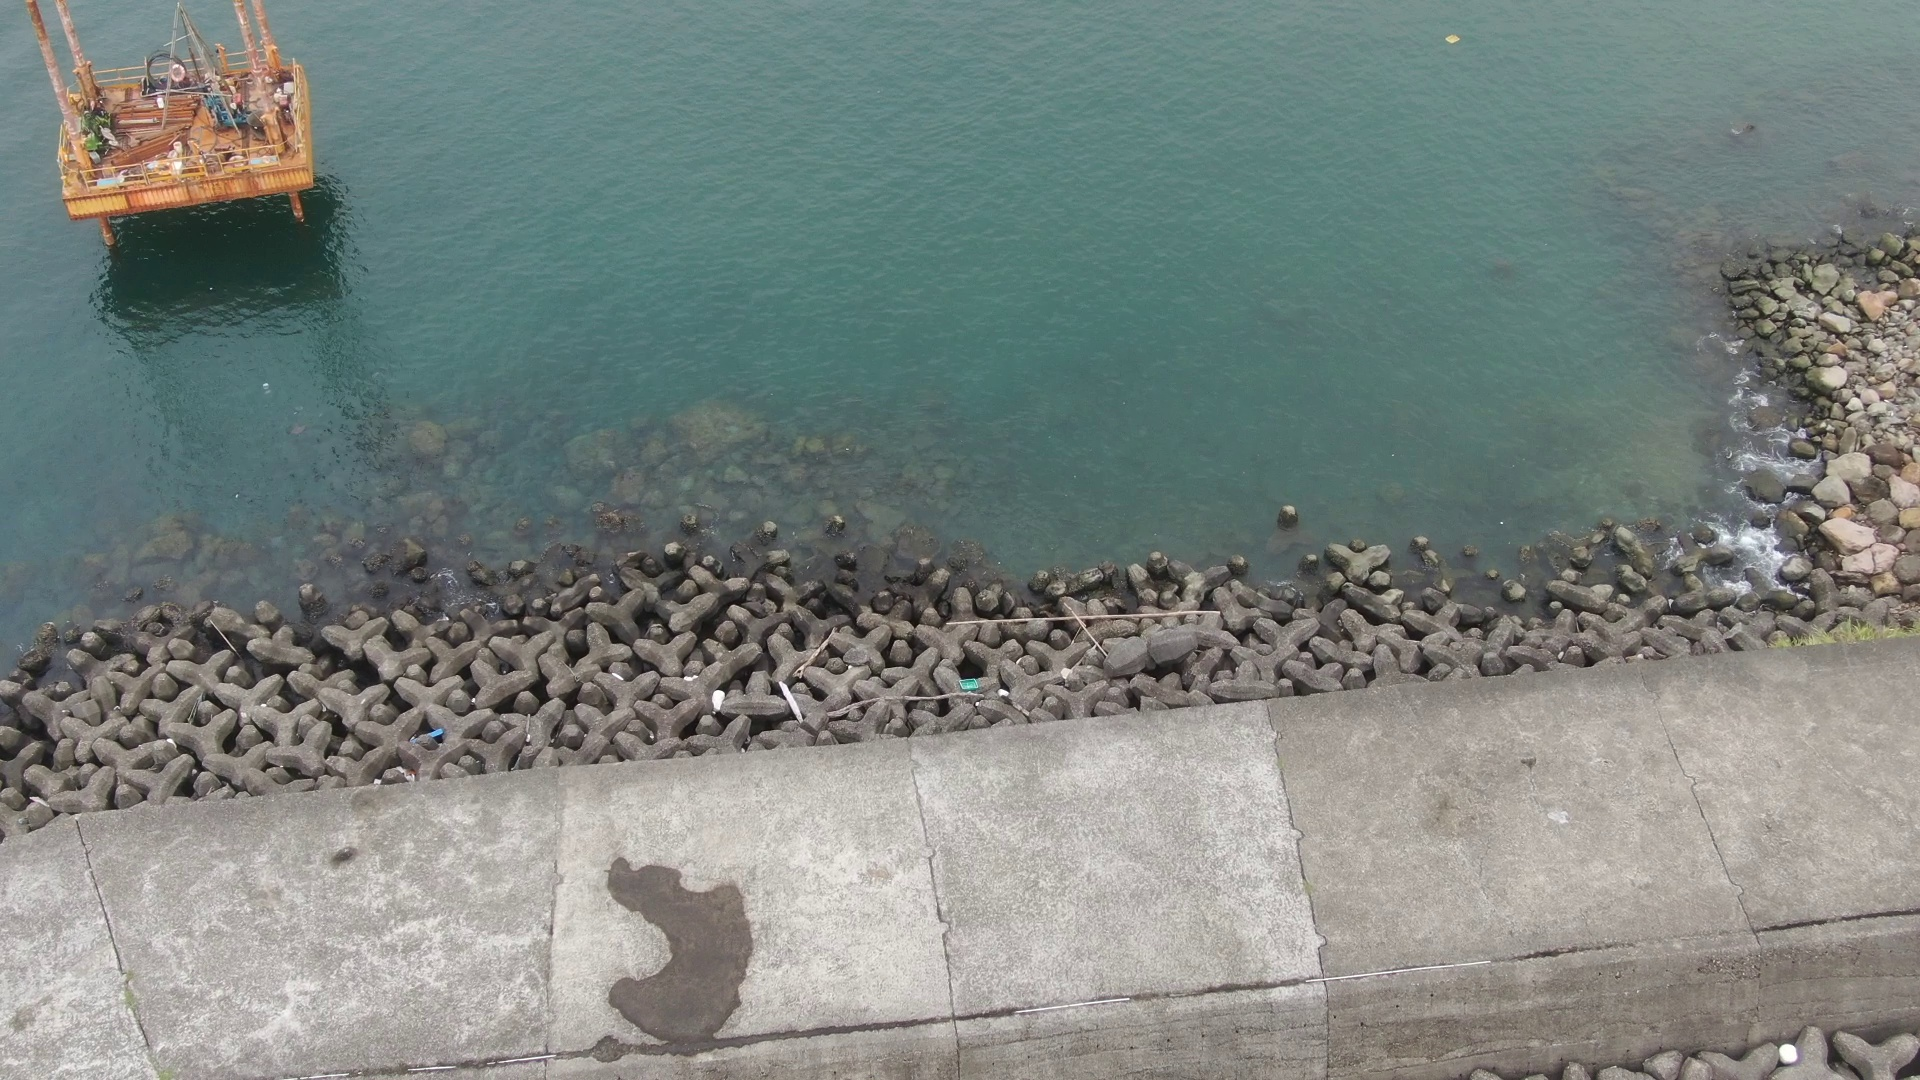garbage: (705, 680, 735, 720), (1774, 1033, 1803, 1068), (1441, 24, 1473, 51), (419, 717, 450, 742), (953, 673, 989, 694)
